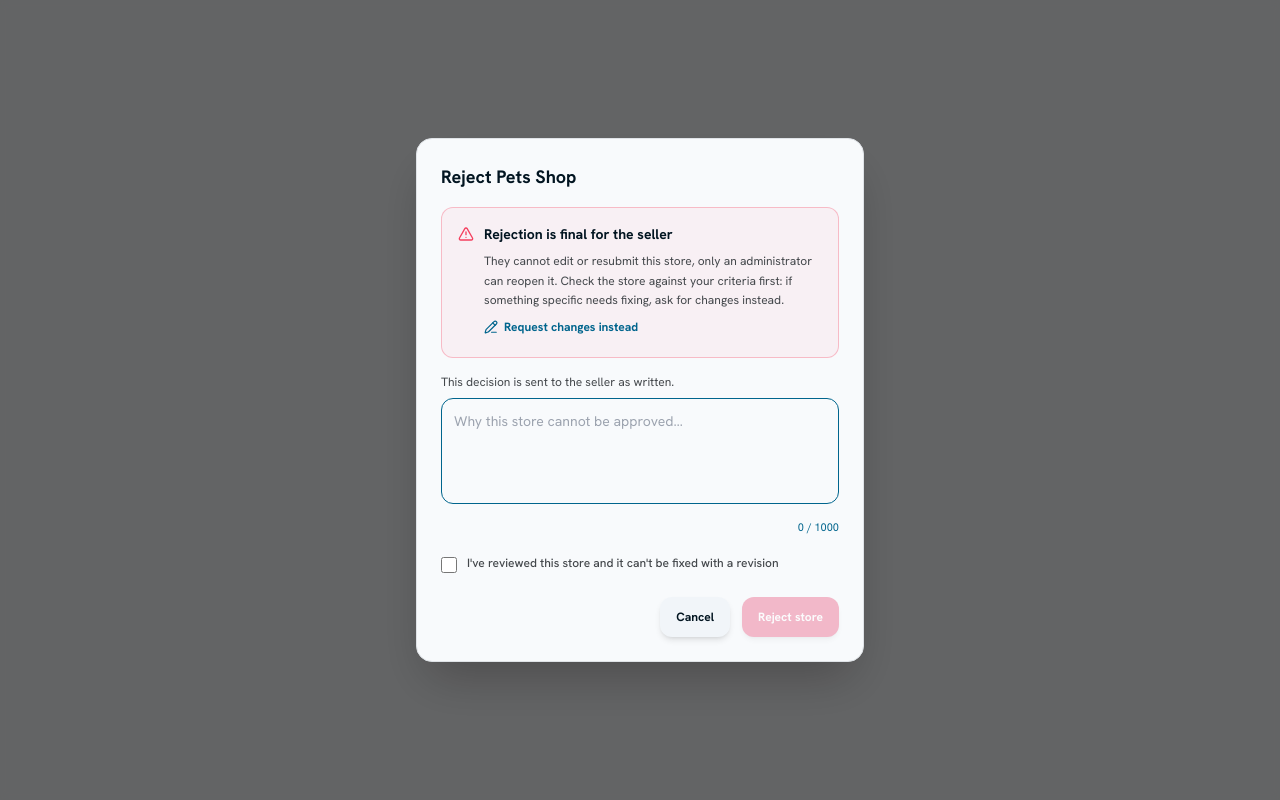
Test: switching to the revision path › swaps mode in place and keeps what was typed
The width and height of the screenshot is (1280, 800).
Type "The permit scan is unreadable" into the text box at (640, 451), box [441, 398, 839, 504]
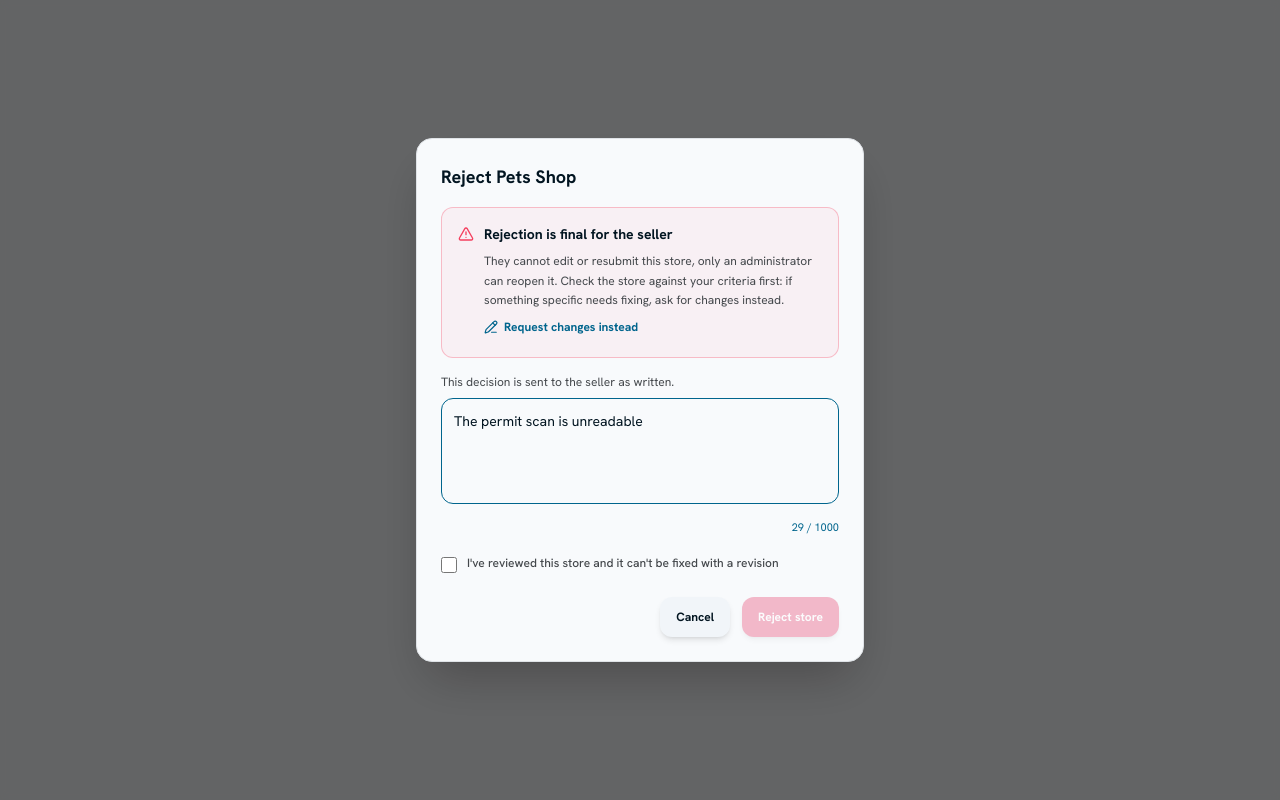
Click the button "Request changes instead" at (561, 327), box [484, 319, 638, 335]
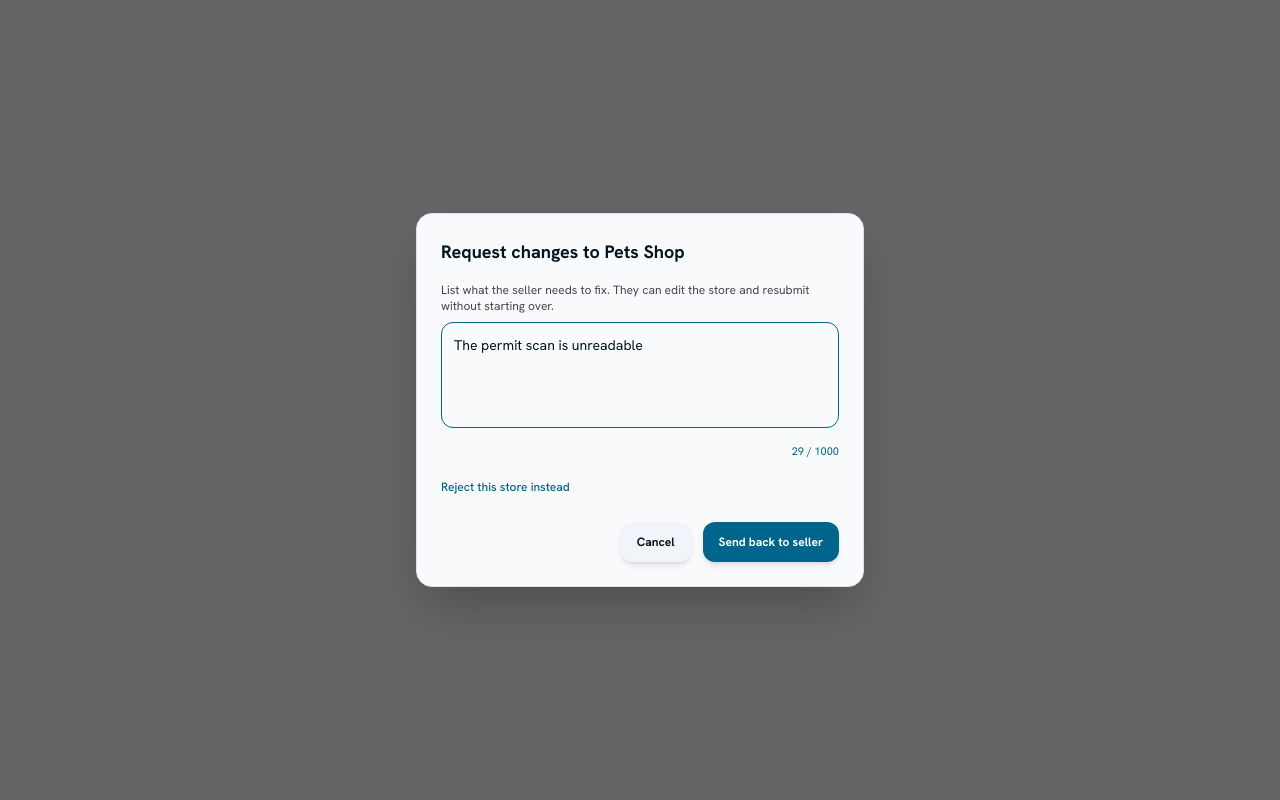
Expected: the text "Rejection is final" is gone
Expected: the button "Send back to seller" is enabled, [703, 522, 839, 562]
